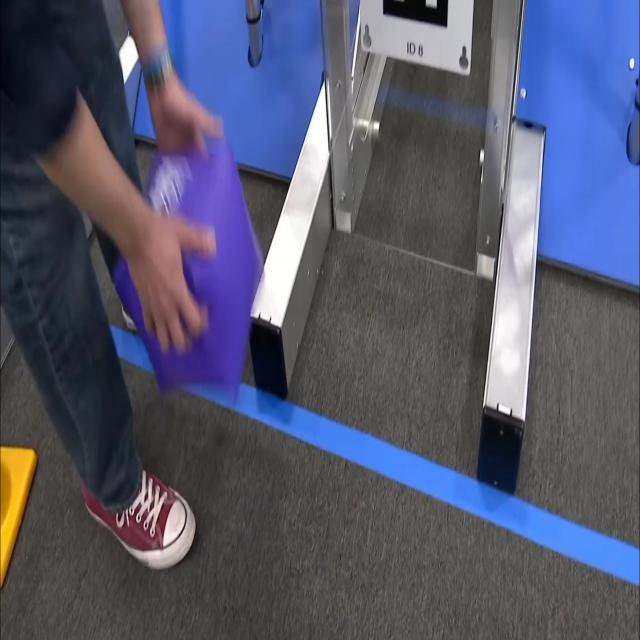frc_cone: (0, 441, 37, 591)
frc_cube: (116, 140, 250, 393)
